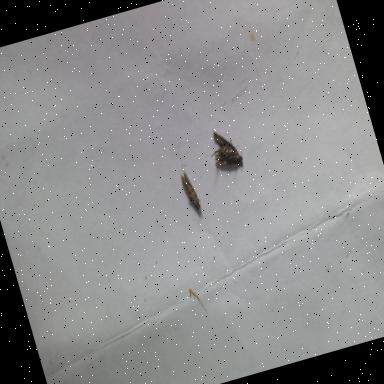pbw: (205, 127, 246, 176), (180, 170, 204, 213)
